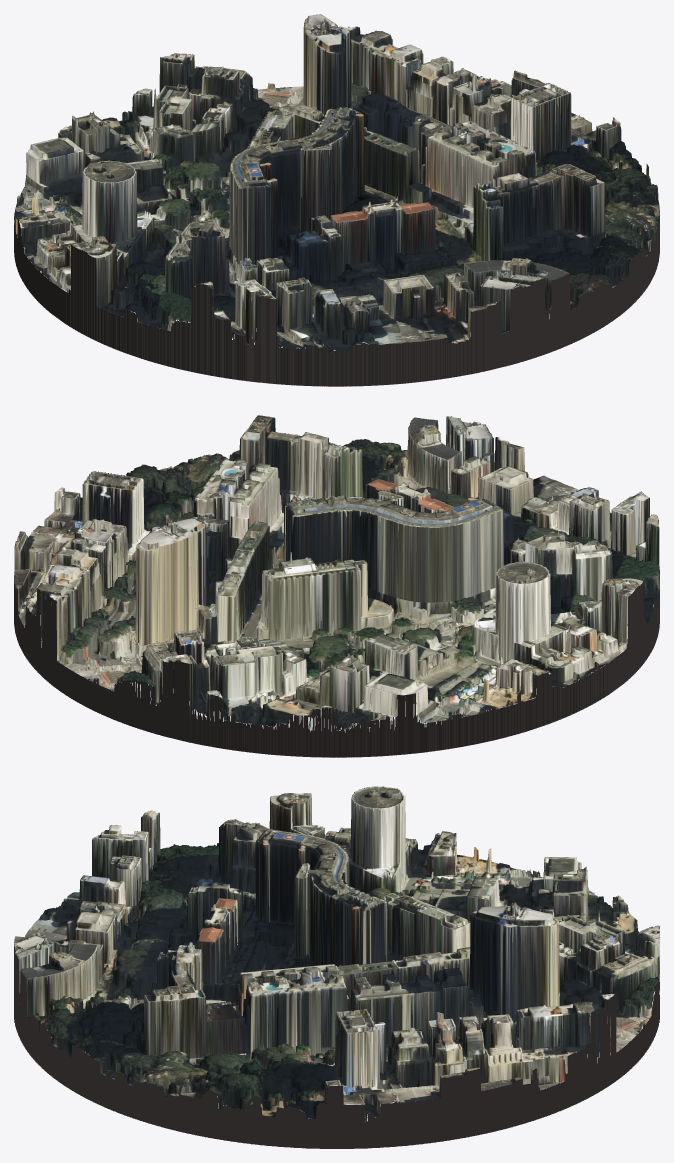
File: copan_simp-transformed.glb
3 renders of one model, top to bottom at view 1: azimuth 30°, elevation 25°; view 2: azimuth 150°, elevation 25°; view 3: azimuth 270°, elevation 25°, orthographic.
Parts seen in each view (by area): view 1: Node; view 2: Node; view 3: Node.
Boxes of the visible parts, box(x1,y1,x2,y2) form: Node: box(14, 14, 659, 386); Node: box(14, 415, 659, 757); Node: box(14, 786, 659, 1148).
Size of the model in its own units: 1332 by 338 by 1332.
Materials: 1 (1 with a texture image).
